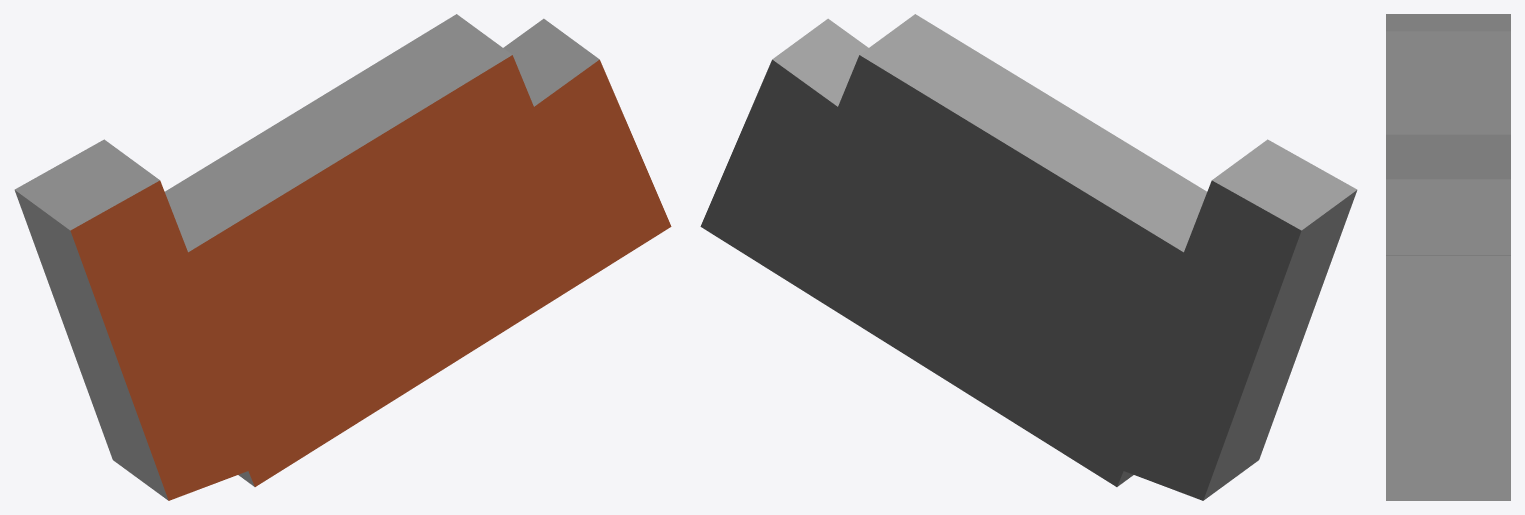
The model's file is construction_2707_assumed_A_Casa_h6m.obj.
3 views of the same model, side by side, from view 1: azimuth 30°, elevation 25°; view 2: azimuth 150°, elevation 25°; view 3: azimuth 270°, elevation 25° (orthographic). The views are drawn at different scales.
Visible parts, largest first — view 1: construction_2707_assumed_A_Casa; view 2: construction_2707_assumed_A_Casa; view 3: construction_2707_assumed_A_Casa.
Part boxes in pixels (x1,y1,x2,y2): construction_2707_assumed_A_Casa: (14,14,671,500); construction_2707_assumed_A_Casa: (700,14,1357,500); construction_2707_assumed_A_Casa: (1386,14,1510,500).
Bounding box in the file's own units: 37.24 × 21.88 × 6.
